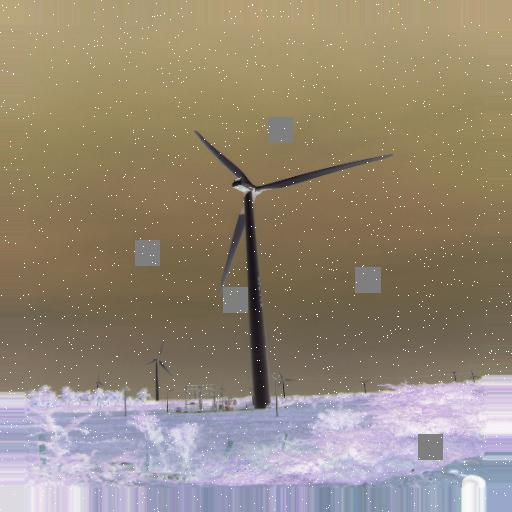wind turbine: (195, 130, 396, 412), (144, 344, 175, 404)
